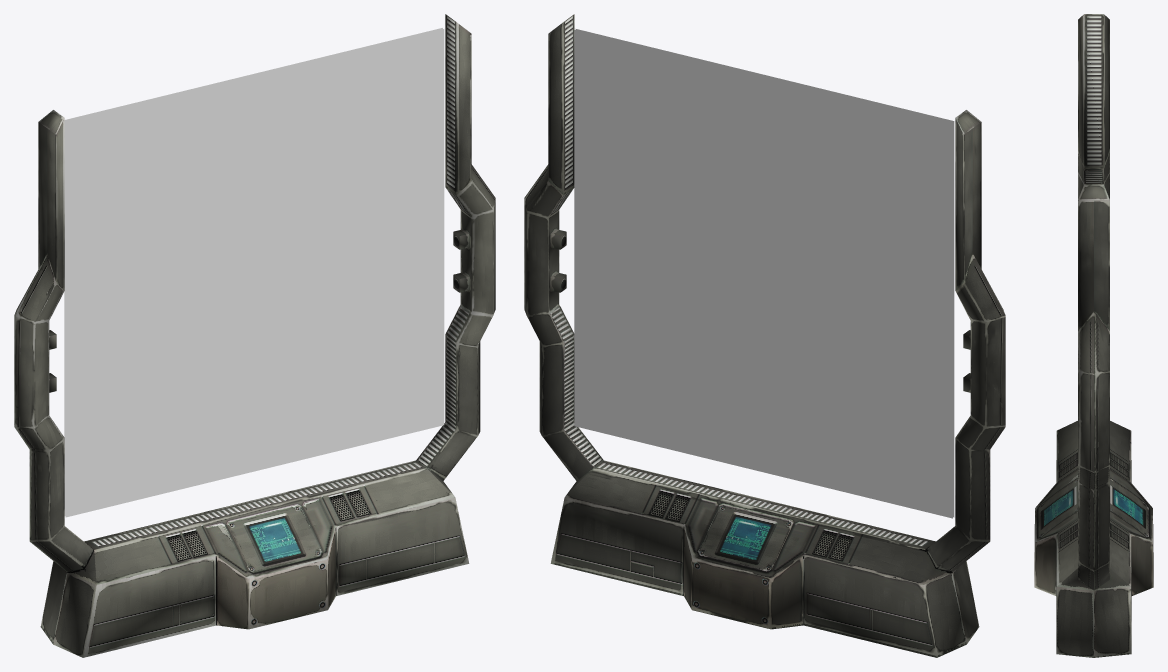
Rendered from Holographic-Screen-03.fbx.
The picture shows the model from 3 angles, left to right: view 1: azimuth 30°, elevation 25°; view 2: azimuth 150°, elevation 25°; view 3: azimuth 270°, elevation 25°; orthographic projection. The views are drawn at different scales.
Parts seen in each view (by area): view 1: Screen03, Projector03; view 2: Screen03, Projector03; view 3: Projector03.
Boxes of the visible parts, bbox=[...] form: Screen03: bbox=[64, 28, 444, 517]; Projector03: bbox=[14, 14, 495, 657]; Screen03: bbox=[574, 29, 954, 518]; Projector03: bbox=[524, 14, 1005, 657]; Projector03: bbox=[1034, 14, 1153, 657].
Bounding box in the file's own units: 5.96 × 6.26 × 1.43.
